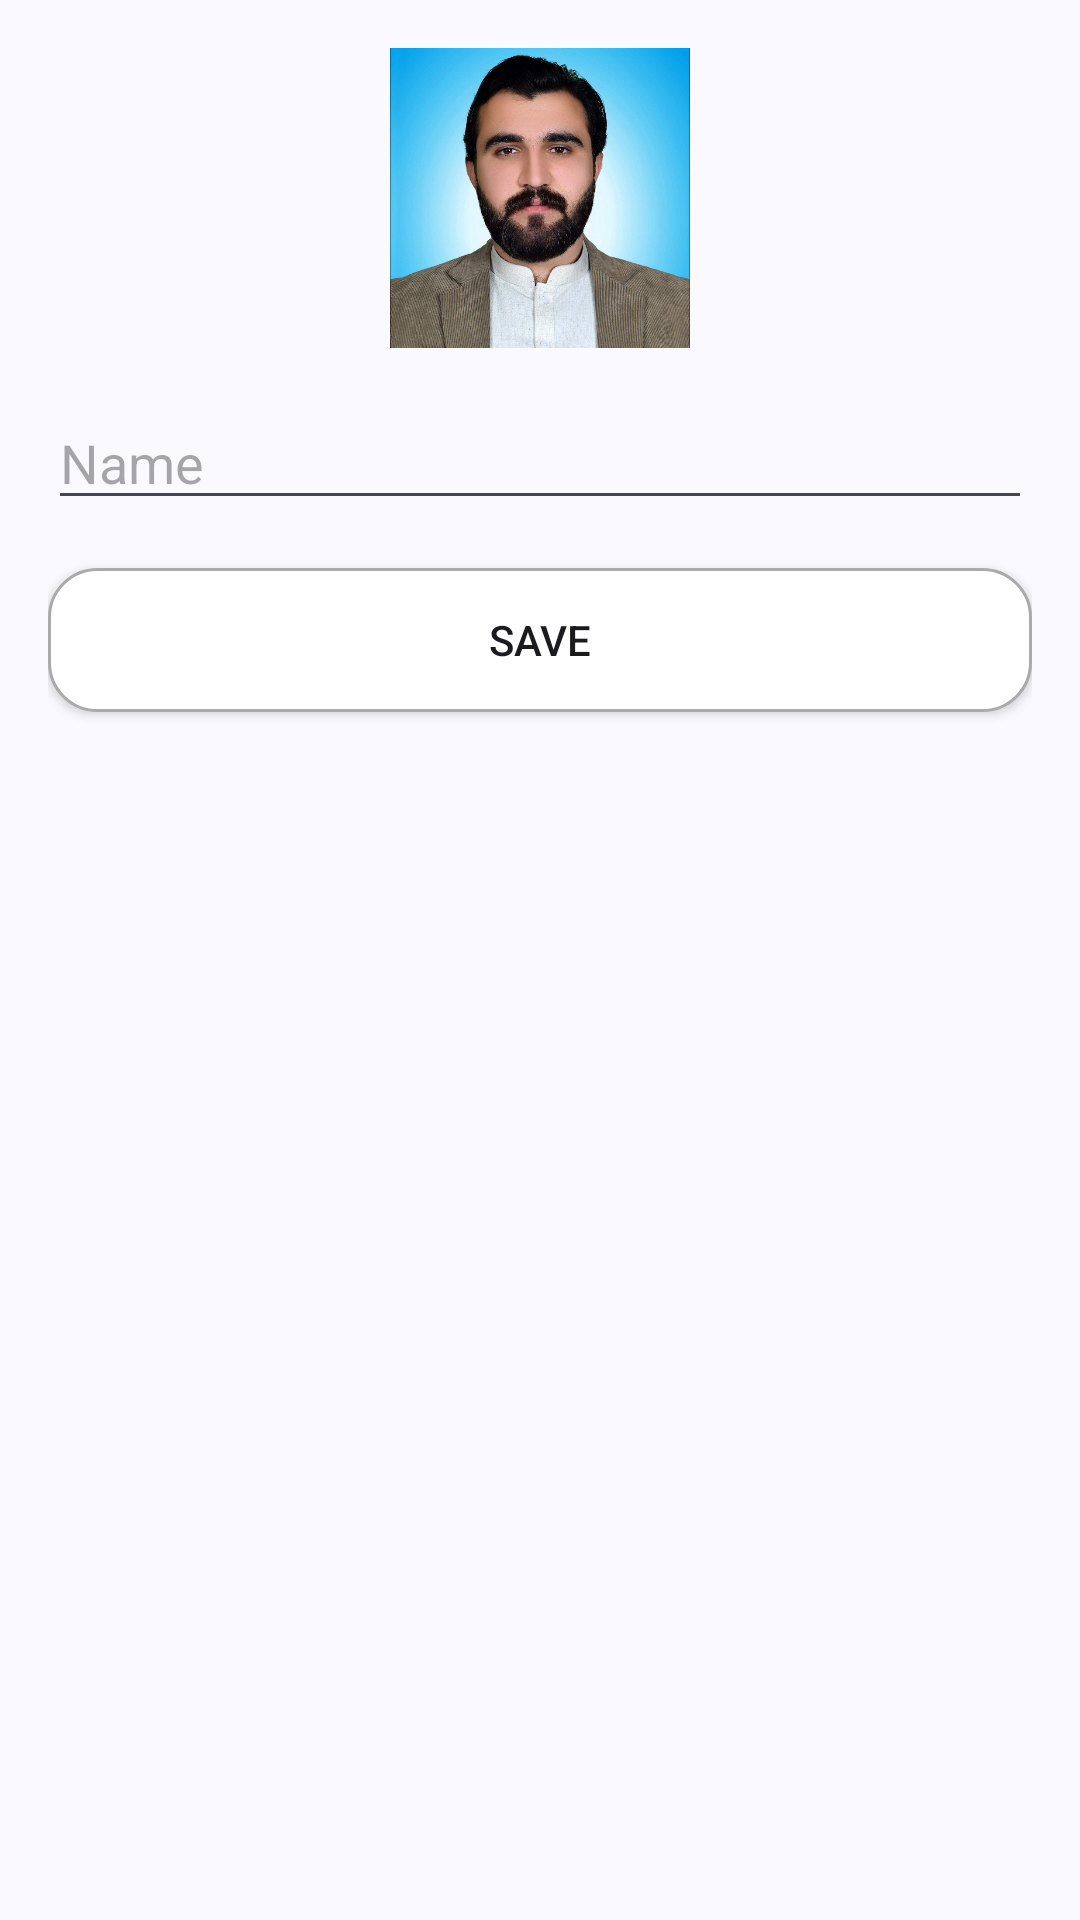

Icon bounding boxes for this 1080w x 1920h phone screenshot, format box=[x1, y1, x2, y2]:
profilepic: box=[390, 48, 690, 348]
